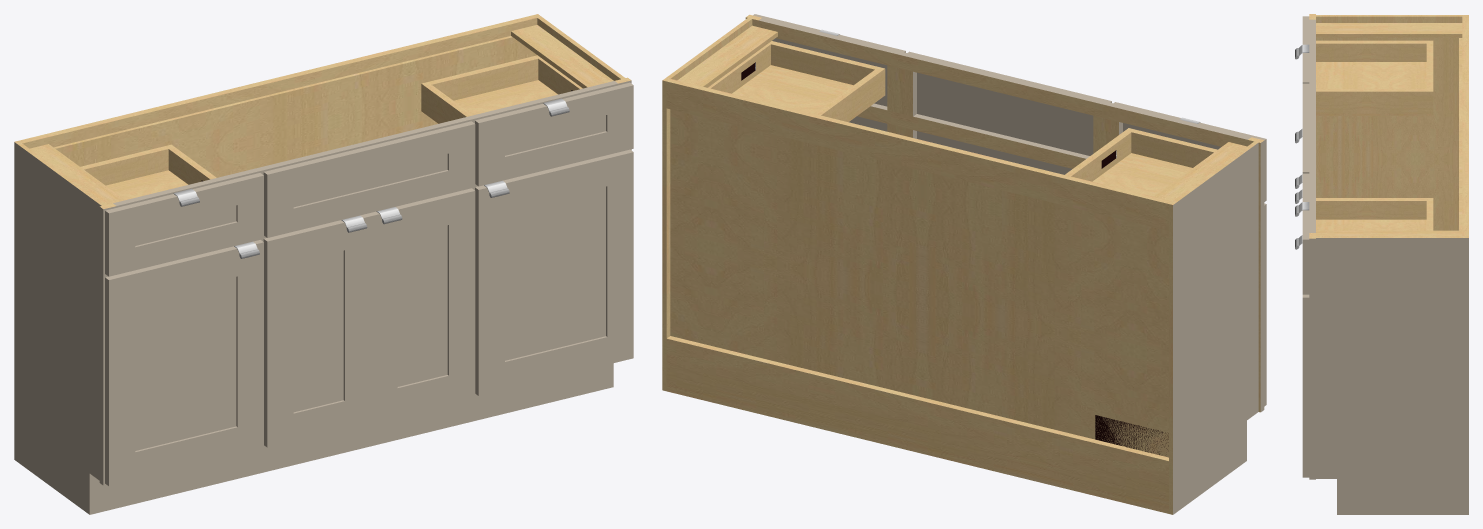
3 renders of one model, left to right at view 1: azimuth 30°, elevation 25°; view 2: azimuth 150°, elevation 25°; view 3: azimuth 270°, elevation 25°, orthographic. The views are drawn at different scales.
Parts seen in each view (by area): view 1: visual:link_6:8:1, visual:link_6:7:0, visual:link_1:0:1, visual:link_4:0:1, visual:link_6:25:1, visual:link_6:22:1, visual:link_0:0:1, visual:link_5:0:1, visual:link_1:3:1, visual:link_0:2:1, visual:link_4:3:1, visual:link_5:3:1 (+41 smaller); view 2: visual:link_6:8:1, visual:link_6:27:1, visual:link_6:7:0, visual:link_6:22:1, visual:link_6:14:0, visual:link_2:12:1, visual:link_6:17:0, visual:link_6:6:2, visual:link_6:13:0, visual:link_6:28:0, visual:link_6:4:1, visual:link_6:5:1 (+18 smaller); view 3: visual:link_6:6:0, visual:link_6:7:2, visual:link_6:18:0, visual:link_6:26:0, visual:link_3:9:1, visual:link_3:11:1, visual:link_3:7:1, visual:link_2:7:1, visual:link_6:16:1, visual:link_6:17:2, visual:link_6:19:0, visual:link_6:22:1 (+12 smaller).
Part boxes in pixels (left/top/right/bottom): visual:link_6:8:1: left=54, top=36, right=536, bottom=177; visual:link_6:7:0: left=14, top=142, right=89, bottom=472; visual:link_1:0:1: left=135, top=277, right=236, bottom=450; visual:link_4:0:1: left=505, top=186, right=605, bottom=360; visual:link_6:25:1: left=94, top=364, right=609, bottom=513; visual:link_6:22:1: left=19, top=15, right=537, bottom=148; visual:link_0:0:1: left=293, top=250, right=343, bottom=412; visual:link_5:0:1: left=397, top=225, right=447, bottom=386; visual:link_1:3:1: left=105, top=271, right=135, bottom=486; visual:link_0:2:1: left=263, top=232, right=293, bottom=447; visual:link_4:3:1: left=475, top=185, right=504, bottom=395; visual:link_5:3:1: left=446, top=188, right=475, bottom=403; visual:link_6:8:1: left=670, top=109, right=1168, bottom=457; visual:link_6:27:1: left=666, top=336, right=1168, bottom=513; visual:link_6:7:0: left=1173, top=151, right=1246, bottom=474; visual:link_6:22:1: left=666, top=79, right=1171, bottom=230; visual:link_6:14:0: left=758, top=20, right=1247, bottom=146; visual:link_2:12:1: left=732, top=65, right=853, bottom=113; visual:link_6:17:0: left=1247, top=143, right=1258, bottom=419; visual:link_6:6:2: left=662, top=26, right=740, bottom=350; visual:link_6:13:0: left=857, top=106, right=1085, bottom=168; visual:link_6:28:0: left=1173, top=421, right=1246, bottom=514; visual:link_6:4:1: left=931, top=100, right=1082, bottom=154; visual:link_6:5:1: left=931, top=83, right=1082, bottom=136; visual:link_6:6:0: left=1337, top=238, right=1468, bottom=478; visual:link_6:7:2: left=1337, top=15, right=1468, bottom=230; visual:link_6:18:0: left=1316, top=238, right=1336, bottom=478; visual:link_6:26:0: left=1337, top=479, right=1468, bottom=514; visual:link_3:9:1: left=1316, top=89, right=1433, bottom=115; visual:link_3:11:1: left=1316, top=62, right=1426, bottom=88; visual:link_3:7:1: left=1316, top=40, right=1433, bottom=61; visual:link_2:7:1: left=1316, top=198, right=1433, bottom=219; visual:link_6:16:1: left=1316, top=23, right=1462, bottom=37; visual:link_6:17:2: left=1316, top=15, right=1336, bottom=197; visual:link_6:19:0: left=1309, top=238, right=1315, bottom=479; visual:link_6:22:1: left=1462, top=16, right=1468, bottom=235.
Bounding box in the file's own units: 1.72 × 0.9861 × 0.5605.
Materials: 5 (4 with a texture image).
